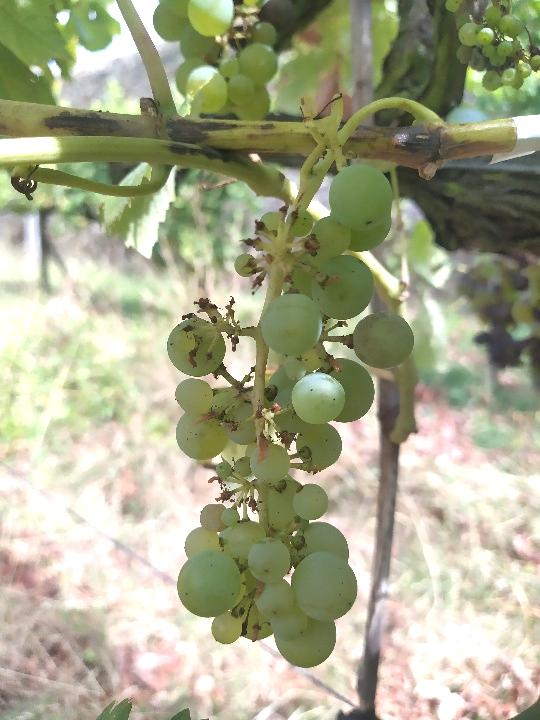grape: (162, 160, 419, 672)
